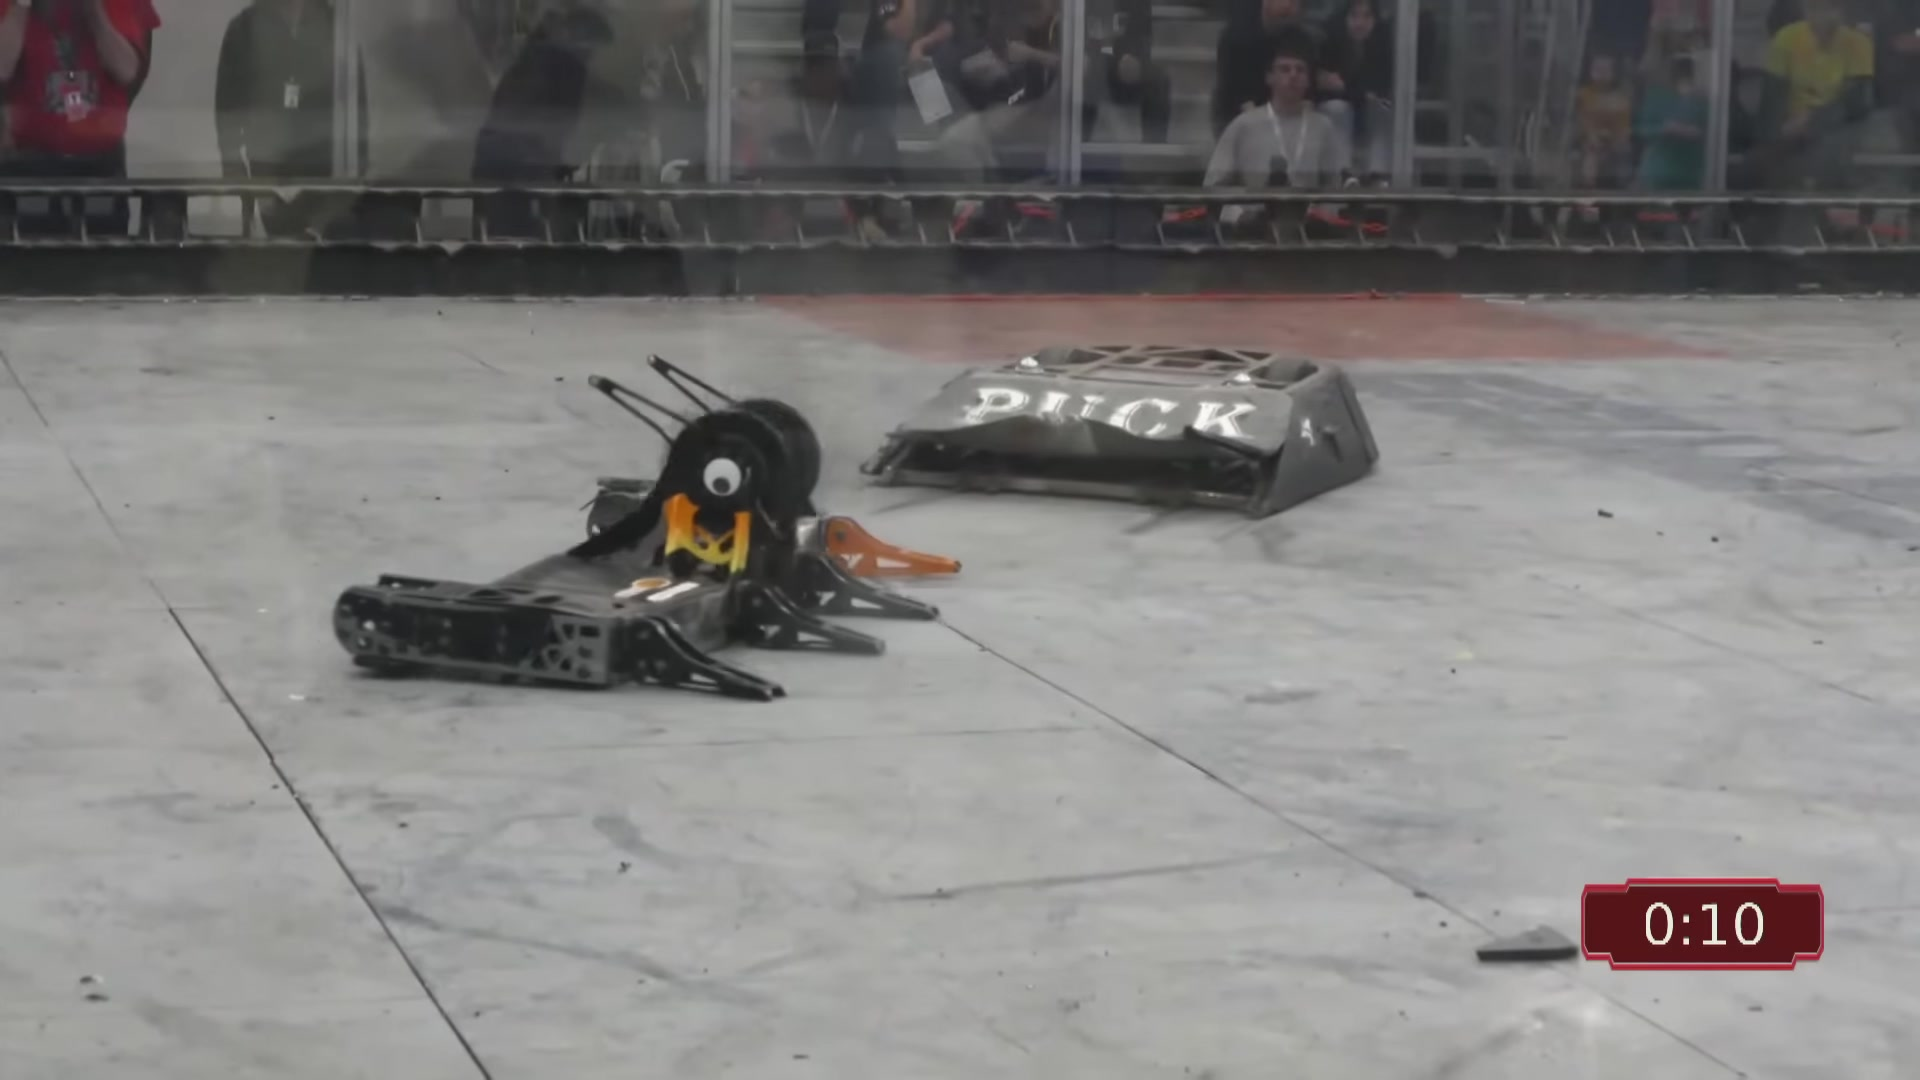combatbot: (336, 352, 960, 728), (858, 342, 1378, 538)
debris: (1470, 915, 1580, 975)
